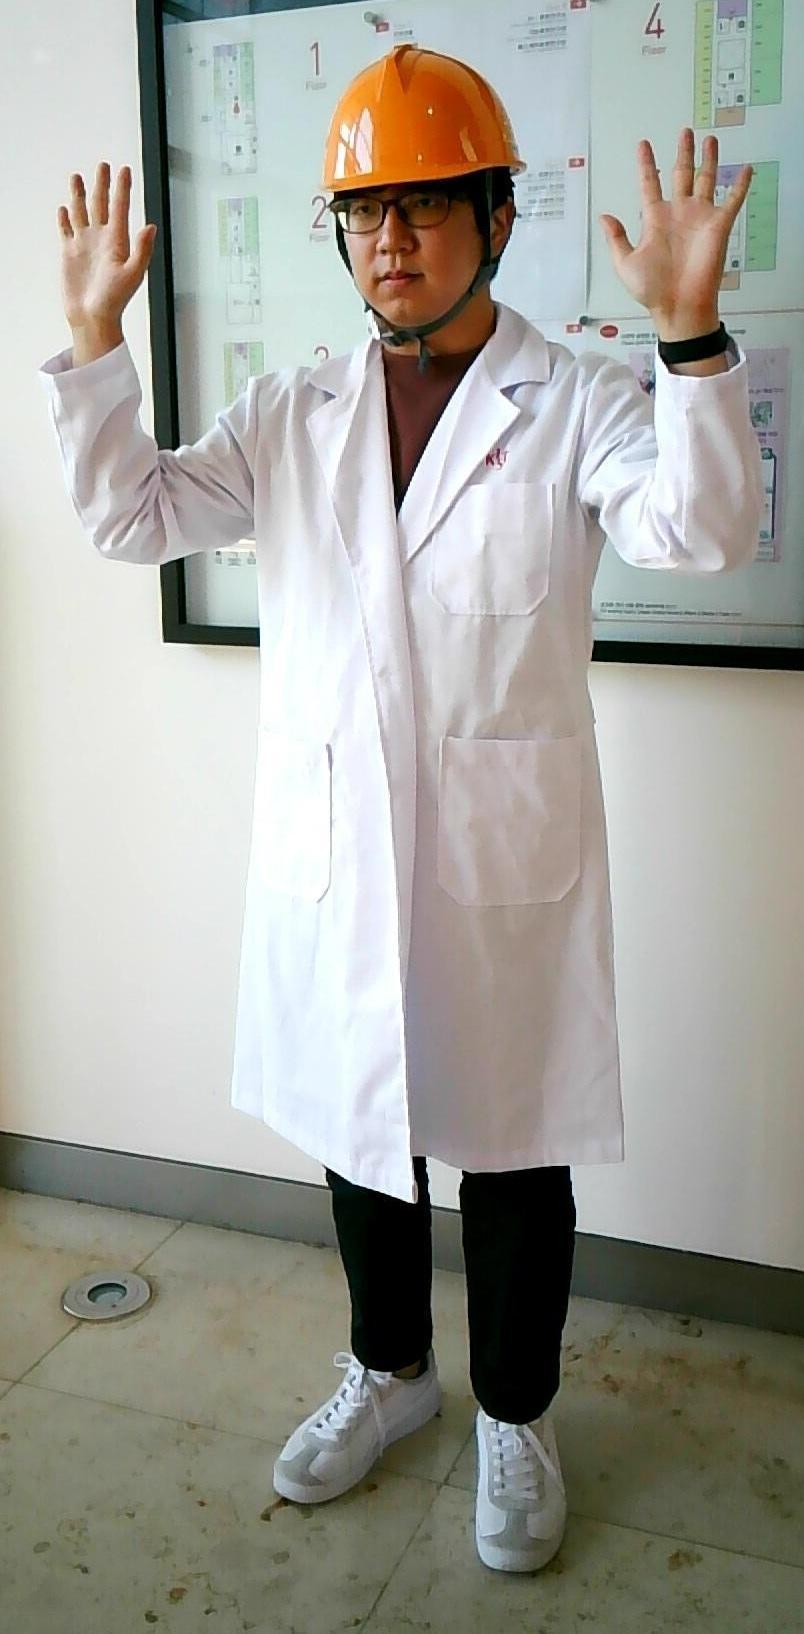lab_coat: (180, 357, 634, 1153)
